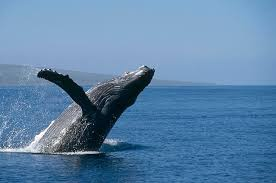humpback: (32, 63, 156, 151)
